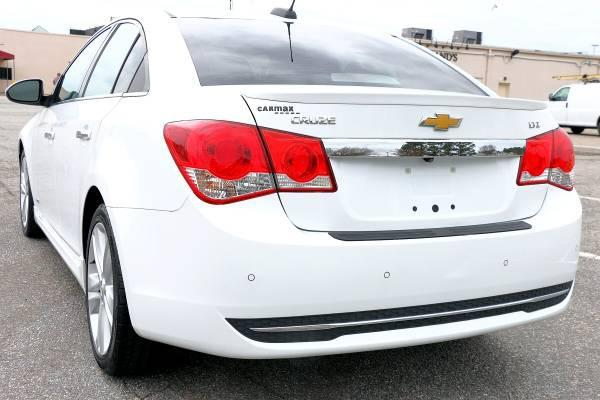Front_Left_Door: (20, 100, 78, 233)
Front_Left_Window: (42, 26, 110, 105)
Left_Taillight: (159, 120, 333, 203)
Rear_Bumper: (109, 186, 583, 362)
Rear_Fender: (90, 60, 251, 212)
Rear_Left_Door: (43, 91, 122, 288)
Rear_Left_Window: (75, 21, 146, 100)
Rear_Windshield: (178, 23, 496, 100)
Right_Taillight: (518, 128, 578, 194)
Roof: (90, 9, 372, 97)
Tailgate: (230, 93, 555, 233)
Wheel: (78, 197, 169, 367)
